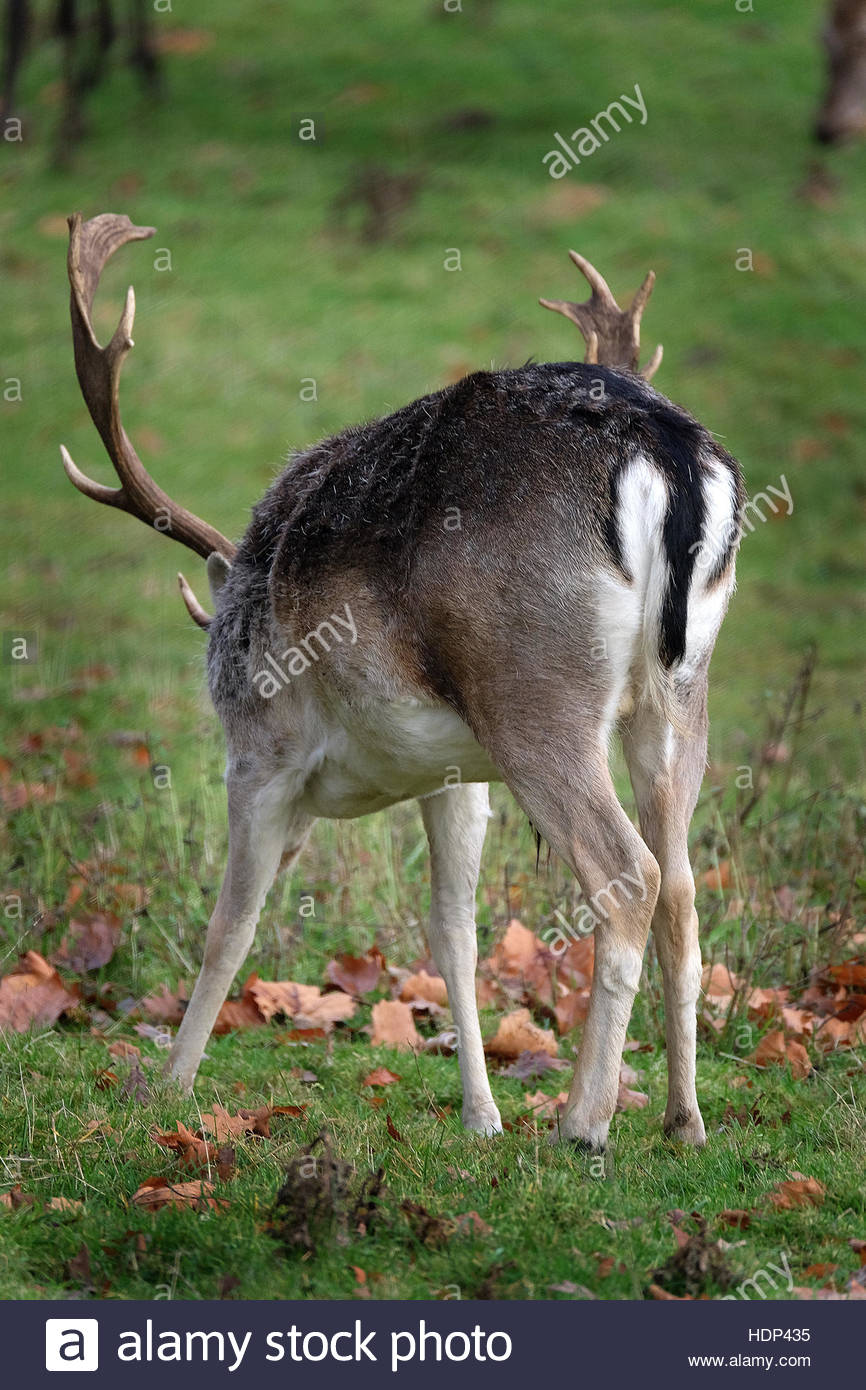Blackbuck: (46, 200, 737, 1150)
